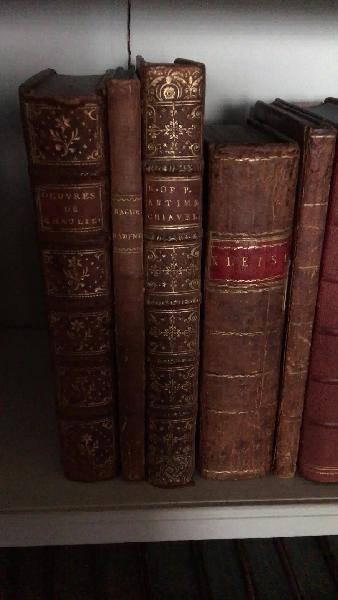Aa6-10: (276, 111, 332, 483)
Aa6-6: (17, 91, 116, 481)
Aa6-7: (108, 73, 147, 492)
Aa6-8: (136, 57, 200, 488)
Aa6-9: (198, 140, 286, 484)
